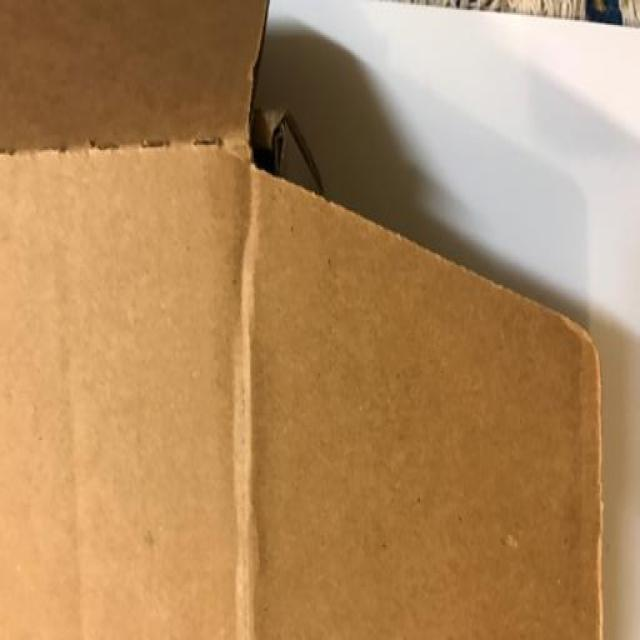Cardboard: (0, 0, 604, 640)
